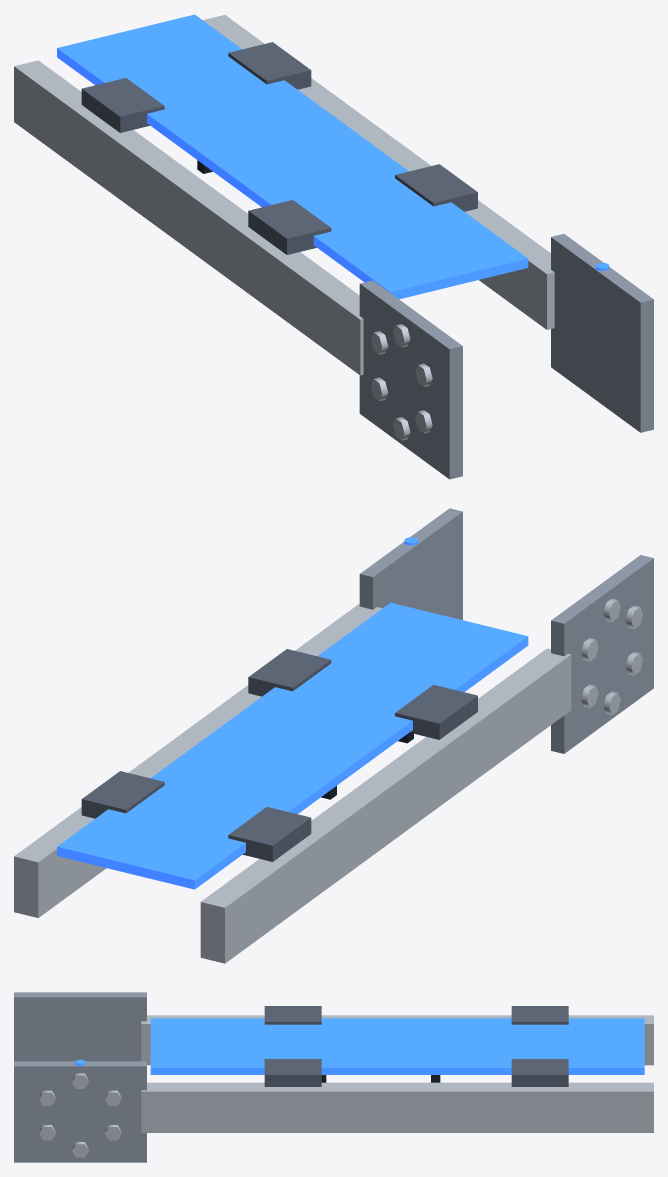
The model's file is tower_lance_damage_s4.glb.
3 views of the same model, one above another, from view 1: azimuth 30°, elevation 25°; view 2: azimuth 150°, elevation 25°; view 3: azimuth 270°, elevation 25° (orthographic). The views are drawn at different scales.
Parts seen in each view (by area): view 1: lance_accelerator_b, lance_heavy_rail_r, lance_breech_cheek_l, lance_breech_cheek_r, lance_heavy_rail_l, lance_heavy_rail_brace_r, lance_heavy_rail_brace2_r, lance_heavy_rail_brace2_l, lance_heavy_rail_brace_l, lance_cheek_bolts_l; view 2: lance_accelerator_b, lance_heavy_rail_r, lance_breech_cheek_r, lance_heavy_rail_l, lance_breech_cheek_l, lance_heavy_rail_brace2_r, lance_heavy_rail_brace_r, lance_heavy_rail_brace2_l, lance_heavy_rail_brace_l, lance_cheek_bolts_l; view 3: lance_accelerator_b, lance_heavy_rail_l, lance_breech_cheek_l, lance_breech_cheek_r, lance_heavy_rail_r, lance_heavy_rail_brace_l, lance_heavy_rail_brace2_l, lance_cheek_bolts_r, lance_heavy_rail_brace_r, lance_heavy_rail_brace2_r.
Boxes of the visible parts, x1,y1,x2,y2 form: lance_accelerator_b: (57, 14, 528, 299); lance_heavy_rail_r: (14, 60, 363, 375); lance_breech_cheek_l: (551, 234, 653, 432); lance_breech_cheek_r: (359, 280, 462, 479); lance_heavy_rail_l: (203, 15, 554, 329); lance_heavy_rail_brace_r: (248, 200, 331, 254); lance_heavy_rail_brace2_r: (81, 78, 164, 132); lance_heavy_rail_brace2_l: (228, 42, 311, 89); lance_heavy_rail_brace_l: (395, 164, 477, 211); lance_cheek_bolts_l: (370, 324, 432, 440); lance_accelerator_b: (57, 602, 528, 889); lance_heavy_rail_r: (200, 648, 571, 963); lance_breech_cheek_r: (551, 555, 653, 753); lance_heavy_rail_l: (14, 603, 382, 917); lance_breech_cheek_l: (359, 508, 462, 619); lance_heavy_rail_brace2_r: (228, 807, 311, 861); lance_heavy_rail_brace_r: (395, 684, 477, 739); lance_heavy_rail_brace2_l: (81, 771, 164, 818); lance_heavy_rail_brace_l: (248, 649, 331, 696); lance_cheek_bolts_l: (581, 598, 642, 714); lance_accelerator_b: (150, 1018, 644, 1074); lance_heavy_rail_l: (141, 1082, 653, 1132); lance_breech_cheek_l: (14, 1061, 146, 1162); lance_breech_cheek_r: (14, 992, 146, 1061); lance_heavy_rail_r: (141, 1015, 653, 1065); lance_heavy_rail_brace_l: (264, 1059, 321, 1086); lance_heavy_rail_brace2_l: (511, 1059, 568, 1086); lance_cheek_bolts_r: (39, 1073, 121, 1157); lance_heavy_rail_brace_r: (264, 1006, 321, 1024); lance_heavy_rail_brace2_r: (511, 1006, 568, 1024).
Size of the model in its own units: 0.974 by 0.571 by 3.37.
